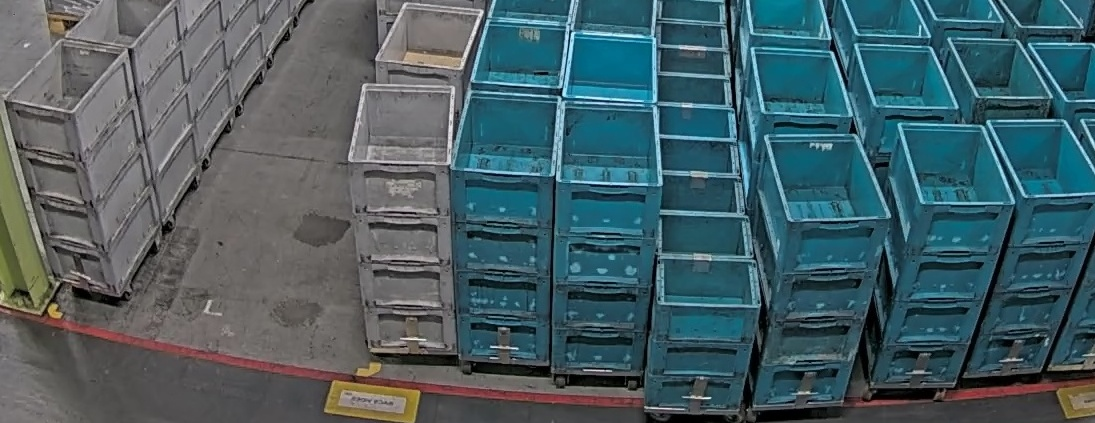4G: (3, 38, 162, 298), (347, 83, 457, 354)
B4: (860, 117, 1013, 388), (747, 134, 892, 406), (965, 120, 1095, 375), (553, 101, 665, 373), (451, 91, 560, 363)
B8: (644, 209, 763, 410)
